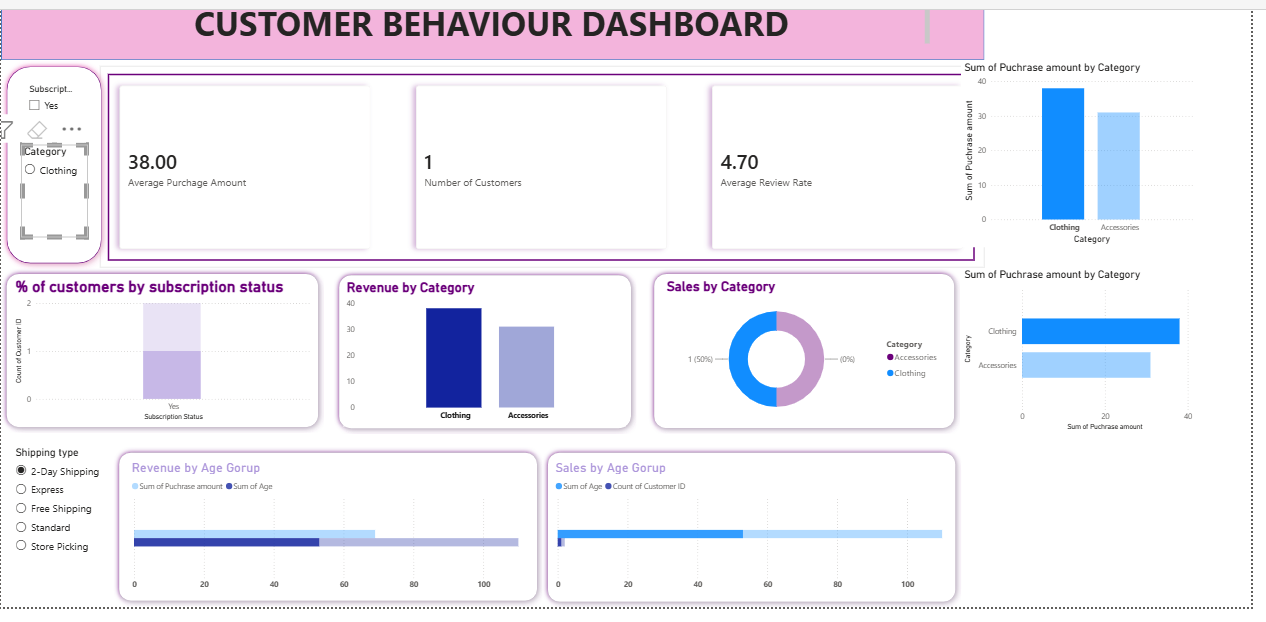

The page's visual inventory and layout, read from the dashboard file:
{"tool":"powerbi","page":{"name":"Page 1","canvas":[2000,1000],"ordinal":0},"visuals":[{"type":"cardVisual","fields":{"Data":["public customer.Average Purchage Amount","public customer.Number of Customers","public customer.Average Review Rate"]},"box":[158.3,133.3,1415,325],"z":0},{"type":"shape","box":[0,0,1573.3,125],"z":1000},{"type":"textbox","box":[85,23.3,1405,80],"z":2000},{"type":"shape","box":[0,458.3,516.7,263.3],"z":3000},{"type":"columnChart","title":"% of customers by subscription status","fields":{"Category":["public customer.Subscription Status"],"Y":["CountNonNull(public customer.Customer ID)"]},"box":[18.3,471.7,481.7,235],"z":4000},{"type":"shape","box":[531.7,460,485,263.3],"z":5000},{"type":"shape","box":[1036.7,458.3,498.3,265],"z":6000},{"type":"clusteredColumnChart","fields":{"Y":["Sum(public customer.Puchrase amount)"],"Category":["public customer.Category"]},"box":[1535.5,125,375,298],"z":7000},{"type":"clusteredBarChart","fields":{"Y":["Sum(public customer.Puchrase amount)"],"Category":["public customer.Category"]},"box":[1536,458,375,265],"z":8000},{"type":"clusteredColumnChart","title":"Revenue by Category","fields":{"Category":["public customer.Category"],"Y":["Sum(public customer.Puchrase amount)"]},"box":[548.3,475,451.7,235],"z":9000},{"type":"donutChart","title":"Sales by Category","fields":{"Category":["public customer.Category"],"Y":["CountNonNull(public customer.Customer ID)"]},"box":[1060,473.3,451.7,235],"z":10000},{"type":"shape","box":[0,126.7,170,333.3],"z":11000},{"type":"listSlicer","fields":{"Values":["public customer.Category"]},"box":[31.7,260,106.7,150],"z":12000},{"type":"slicer","fields":{"Values":["public customer.Subscription Status"]},"box":[31.7,158.3,106.7,101.7],"z":13000},{"type":"listSlicer","fields":{"Values":["public customer.Shpping type"]},"box":[18.3,741.7,163.3,210],"z":14000},{"type":"shape","box":[180,743.3,686.7,255],"z":14002},{"type":"clusteredBarChart","title":"Revenue by Age Gorup","fields":{"Y":["Sum(public customer.Puchrase amount)","Sum(public customer.Age)"]},"box":[203.3,763.3,640,218.3],"z":14003},{"type":"shape","box":[866.7,743.3,670,256.7],"z":14004},{"type":"clusteredBarChart","title":"Sales by Age Gorup","fields":{"Y":["Sum(public customer.Age)","CountNonNull(public customer.Customer ID)"]},"box":[881.7,763.3,640,218.3],"z":14005}]}

Visuals, with their boxes in screenshot pixels (x1, y1, x2, y2), scaled from the page's 2000x1000 canvas onto the 1266x622 screenshot:
cardVisual - public customer.Average Purchage Amount x public customer.Number of Customers: rect(100, 83, 996, 285)
shape: rect(0, 0, 996, 78)
textbox: rect(54, 14, 943, 64)
shape: rect(0, 285, 327, 449)
"% of customers by subscription status" columnChart: rect(12, 293, 316, 440)
shape: rect(337, 286, 644, 450)
shape: rect(656, 285, 972, 450)
clusteredColumnChart - Sum(public customer.Puchrase amount) x public customer.Category: rect(972, 78, 1209, 263)
clusteredBarChart - Sum(public customer.Puchrase amount) x public customer.Category: rect(972, 285, 1210, 450)
"Revenue by Category" clusteredColumnChart: rect(347, 295, 633, 442)
"Sales by Category" donutChart: rect(671, 294, 957, 441)
shape: rect(0, 79, 108, 286)
listSlicer - public customer.Category: rect(20, 162, 88, 255)
slicer - public customer.Subscription Status: rect(20, 98, 88, 162)
listSlicer - public customer.Shpping type: rect(12, 461, 115, 592)
shape: rect(114, 462, 549, 621)
"Revenue by Age Gorup" clusteredBarChart: rect(129, 475, 534, 611)
shape: rect(549, 462, 973, 621)
"Sales by Age Gorup" clusteredBarChart: rect(558, 475, 963, 611)
